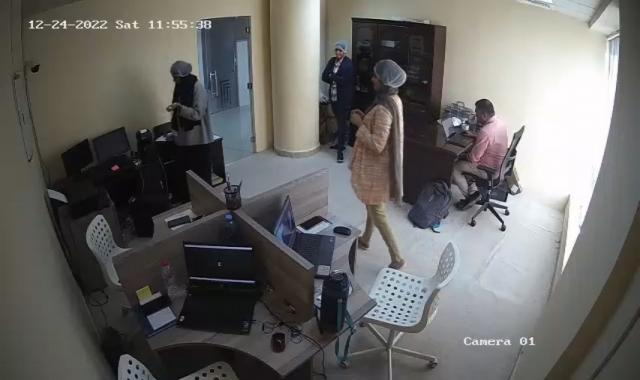hairnet: (370, 62, 407, 97), (169, 59, 192, 87), (333, 39, 348, 61)
no_hairnet: (472, 98, 496, 124)
